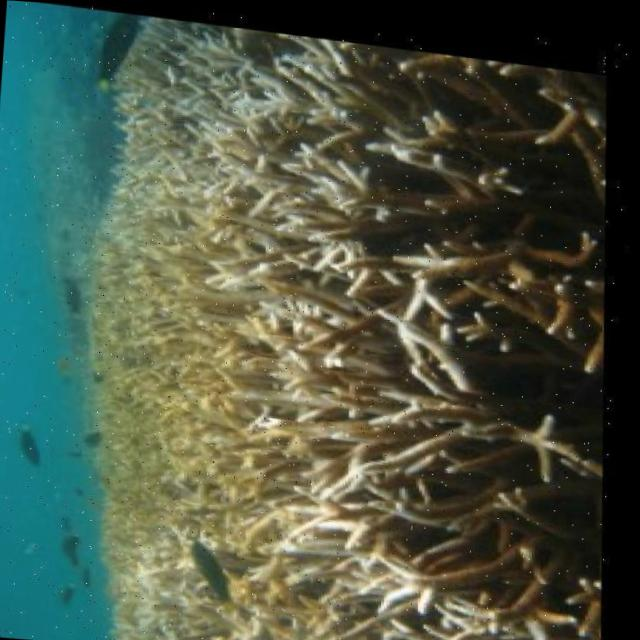Bleached Coral: (68, 5, 640, 640)
